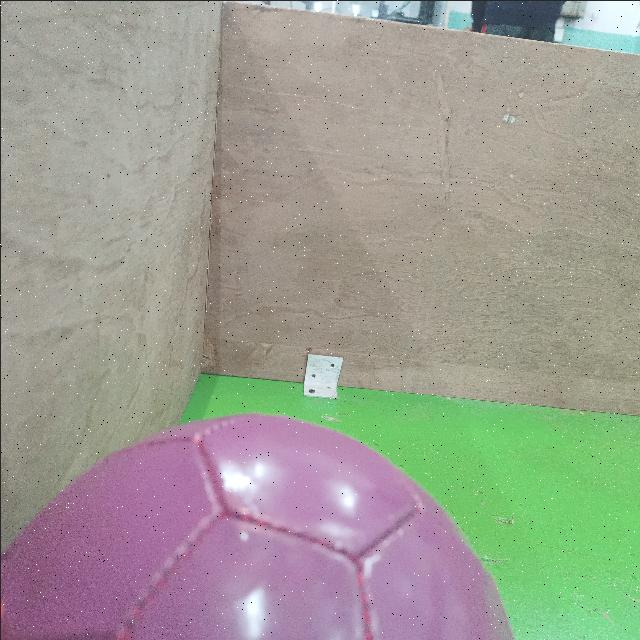P: (1, 404, 524, 640)
